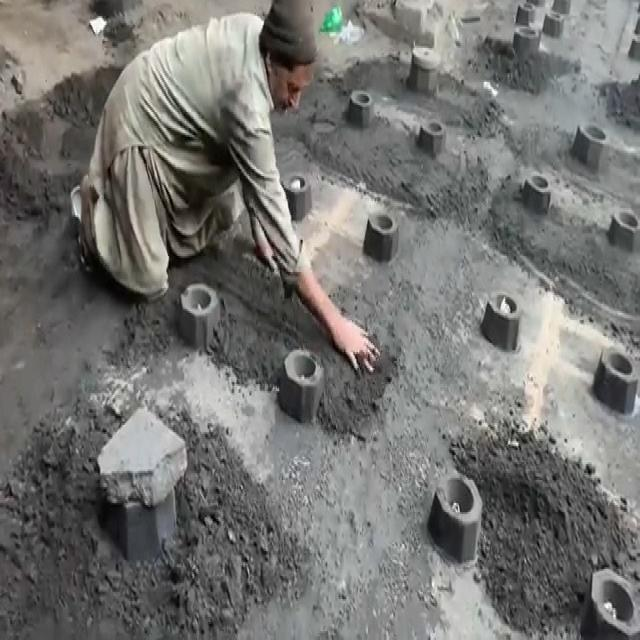dress: (82, 15, 310, 303)
